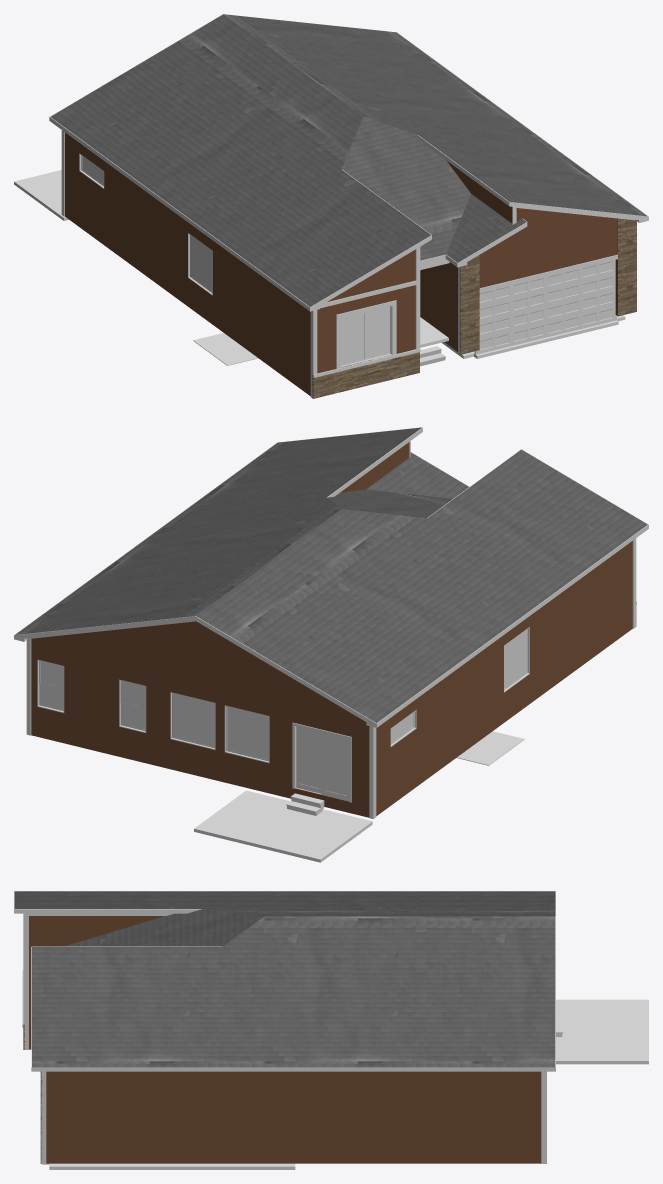
File: 138-1251-dm-modern.glb
3 renders of one model, top to bottom at view 1: azimuth 30°, elevation 25°; view 2: azimuth 150°, elevation 25°; view 3: azimuth 270°, elevation 25°, orthographic. The views are drawn at different scales.
Parts seen in each view (by area): view 1: Basic Roof Wood Rafter 4" - Asphalt Shingle - Insulated_8a57, Basic Wall BSB Exterior - Stud_3.5" - Sheathing_0.5" - _1f1e, Basic Roof Wood Rafter 4" - Asphalt Shingle - Insulated_2dfa, Traditional - BSB Exterior - Overhead Garage Door - Clo_2b5c, Basic Wall BSB Exterior - Stud_3.5" - Sheathing_0.5" - _414b, Basic Roof Wood Rafter 4" - Asphalt Shingle - Insulated_6cca, Fascia Fascia-Flat 1x6 w/12" Soffit Bd [4312290], Basic Wall BSB Exterior - Stud_3.5" - Sheathing_0.5" - _9faa, BSB Horizontal Slider 6056 XO w/ Sill [4312107], Basic Wall BSB Exterior - Stud_1.5" - Sheathing_0.5" - _0c0f, Basic Wall BSB Exterior - Stud_3.5" - Sheathing_0.5" - _5e18, Basic Roof Wood Rafter 4" - Asphalt Shingle - Insulated_646e (+14 smaller); view 2: Basic Roof Wood Rafter 4" - Asphalt Shingle - Insulated_8a57, Basic Wall BSB Exterior - Stud_3.5" - Sheathing_0.5" - _7707, Basic Wall BSB Exterior - Stud_3.5" - Sheathing_0.5" - _1f1e, Basic Roof Wood Rafter 4" - Asphalt Shingle - Insulated_2dfa, Basic Wall BSB Exterior - Stud_1.5" - Sheathing_0.5" - _115d, Floor BSB Concrete Slab - 4" - Slope Option [4280403], Basic Roof Wood Rafter 4" - Asphalt Shingle - Insulated_6cca, Fascia Fascia-Flat 1x6 w/12" Soffit Bd [4312290], BSB Exterior - SGD XO - 1-Lite 6068 [4277598], Basic Roof Wood Rafter 4" - Asphalt Shingle - Insulated_646e, BSB Fixed 5050 FX w/ Sill [4277652], BSB Fixed 5050 FX w/ Sill [4277767] (+7 smaller); view 3: Basic Roof Wood Rafter 4" - Asphalt Shingle - Insulated_8a57, Basic Wall BSB Exterior - Stud_3.5" - Sheathing_0.5" - _035e, Basic Wall BSB Exterior - Stud_3.5" - Sheathing_0.5" - _6094, Basic Roof Wood Rafter 4" - Asphalt Shingle - Insulated_6cca, Basic Wall BSB Exterior - Stud_3.5" - Sheathing_0.5" - _7d82, Floor BSB Concrete Slab - 4" - Slope Option [4280403], Fascia Fascia-Flat 1x6 w/12" Soffit Bd [4312290], Basic Wall BSB Exterior - Stud_1.5" - Sheathing_0.5" - _9bae, Basic Roof Wood Rafter 4" - Asphalt Shingle - Insulated_2dfa, Trim - Corner Boards2 Trim - Corner Boards [4312259], Floor BSB Concrete Slab - 4" - Slope Option [4298227], Trim - Frieze Boards2 Trim - Frieze Boards [4312196].
Part boxes in pixels (x1=…): Basic Roof Wood Rafter 4" - Asphalt Shingle - Insulated_8a57: x1=50, y1=14, x2=635, y2=291; Basic Wall BSB Exterior - Stud_3.5" - Sheathing_0.5" - _1f1e: x1=65, y1=132, x2=297, y2=386; Basic Roof Wood Rafter 4" - Asphalt Shingle - Insulated_2dfa: x1=290, y1=169, x2=430, y2=306; Traditional - BSB Exterior - Overhead Garage Door - Clo_2b5c: x1=474, y1=260, x2=616, y2=354; Basic Wall BSB Exterior - Stud_3.5" - Sheathing_0.5" - _414b: x1=479, y1=223, x2=617, y2=315; Basic Roof Wood Rafter 4" - Asphalt Shingle - Insulated_6cca: x1=418, y1=135, x2=647, y2=216; Fascia Fascia-Flat 1x6 w/12" Soffit Bd [4312290]: x1=49, y1=14, x2=648, y2=310; Basic Wall BSB Exterior - Stud_3.5" - Sheathing_0.5" - _9faa: x1=317, y1=285, x2=415, y2=373; BSB Horizontal Slider 6056 XO w/ Sill [4312107]: x1=340, y1=306, x2=392, y2=367; Basic Wall BSB Exterior - Stud_1.5" - Sheathing_0.5" - _0c0f: x1=479, y1=208, x2=617, y2=256; Basic Wall BSB Exterior - Stud_3.5" - Sheathing_0.5" - _5e18: x1=420, y1=262, x2=457, y2=351; Basic Roof Wood Rafter 4" - Asphalt Shingle - Insulated_646e: x1=446, y1=194, x2=526, y2=262; Basic Roof Wood Rafter 4" - Asphalt Shingle - Insulated_8a57: x1=15, y1=451, x2=626, y2=722; Basic Wall BSB Exterior - Stud_3.5" - Sheathing_0.5" - _7707: x1=31, y1=638, x2=369, y2=817; Basic Wall BSB Exterior - Stud_3.5" - Sheathing_0.5" - _1f1e: x1=376, y1=551, x2=618, y2=815; Basic Roof Wood Rafter 4" - Asphalt Shingle - Insulated_2dfa: x1=428, y1=449, x2=647, y2=539; Basic Wall BSB Exterior - Stud_1.5" - Sheathing_0.5" - _115d: x1=33, y1=621, x2=359, y2=718; Floor BSB Concrete Slab - 4" - Slope Option [4280403]: x1=194, y1=790, x2=372, y2=862; Basic Roof Wood Rafter 4" - Asphalt Shingle - Insulated_6cca: x1=266, y1=427, x2=421, y2=497; Fascia Fascia-Flat 1x6 w/12" Soffit Bd [4312290]: x1=14, y1=427, x2=648, y2=727; BSB Exterior - SGD XO - 1-Lite 6068 [4277598]: x1=292, y1=722, x2=351, y2=802; Basic Roof Wood Rafter 4" - Asphalt Shingle - Insulated_646e: x1=366, y1=452, x2=468, y2=498; BSB Fixed 5050 FX w/ Sill [4277652]: x1=170, y1=692, x2=215, y2=750; BSB Fixed 5050 FX w/ Sill [4277767]: x1=224, y1=705, x2=269, y2=763; Basic Roof Wood Rafter 4" - Asphalt Shingle - Insulated_8a57: x1=56, y1=891, x2=555, y2=1067; Basic Wall BSB Exterior - Stud_3.5" - Sheathing_0.5" - _035e: x1=297, y1=1071, x2=541, y2=1163; Basic Wall BSB Exterior - Stud_3.5" - Sheathing_0.5" - _6094: x1=141, y1=1071, x2=298, y2=1163; Basic Roof Wood Rafter 4" - Asphalt Shingle - Insulated_6cca: x1=32, y1=946, x2=221, y2=1067; Basic Wall BSB Exterior - Stud_3.5" - Sheathing_0.5" - _7d82: x1=46, y1=1071, x2=141, y2=1163; Floor BSB Concrete Slab - 4" - Slope Option [4280403]: x1=556, y1=999, x2=648, y2=1064; Fascia Fascia-Flat 1x6 w/12" Soffit Bd [4312290]: x1=14, y1=891, x2=555, y2=1071; Basic Wall BSB Exterior - Stud_1.5" - Sheathing_0.5" - _9bae: x1=29, y1=916, x2=164, y2=952; Basic Roof Wood Rafter 4" - Asphalt Shingle - Insulated_2dfa: x1=14, y1=891, x2=200, y2=908; Trim - Corner Boards2 Trim - Corner Boards [4312259]: x1=23, y1=916, x2=546, y2=1163; Floor BSB Concrete Slab - 4" - Slope Option [4298227]: x1=42, y1=1163, x2=295, y2=1169; Trim - Frieze Boards2 Trim - Frieze Boards [4312196]: x1=23, y1=913, x2=173, y2=957.
Size of the model in its own units: 12.23 by 6.63 by 18.61.
Materials: 3 (2 with a texture image).
